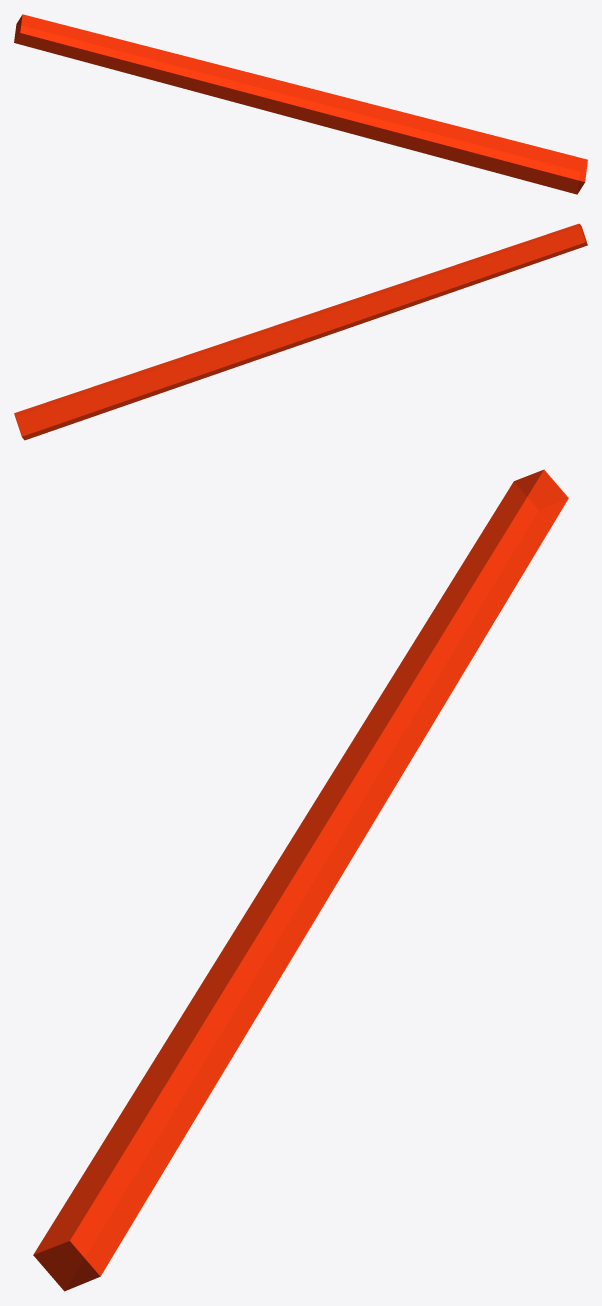
File: Event_421278790_EBrechit_18.fbx
The picture shows the model from 3 angles, top to bottom: view 1: azimuth 30°, elevation 25°; view 2: azimuth 210°, elevation 25°; view 3: azimuth 270°, elevation 25°; orthographic projection. The views are drawn at different scales.
Parts seen in each view (by area): view 1: Model; view 2: Model; view 3: Model.
Boxes of the visible parts, x1,y1,x2,y2 form: Model: (14, 14, 587, 194); Model: (14, 223, 587, 440); Model: (33, 469, 568, 1291).
Size of the model in its own units: 1.45 by 0.6044 by 0.7381.
